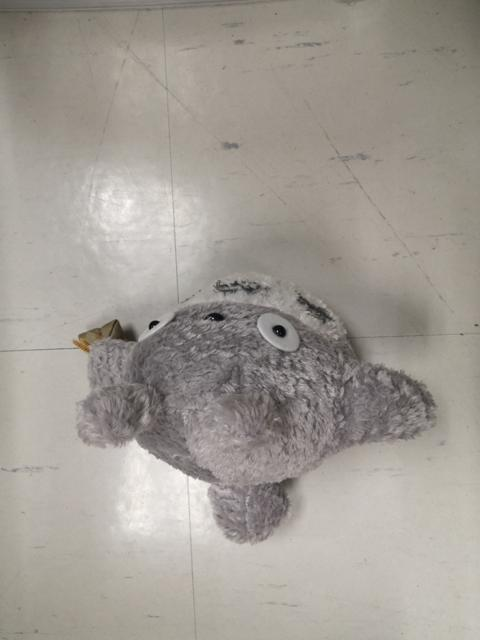totoro: (68, 264, 439, 551)
